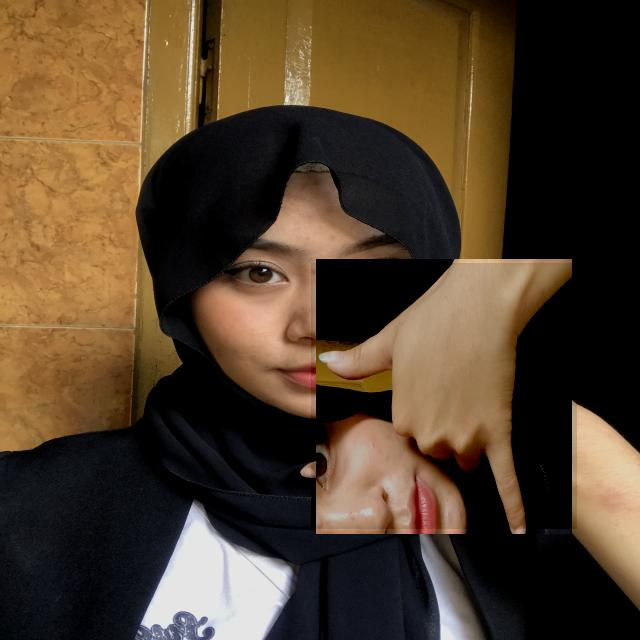telpon: (311, 263, 577, 529)
